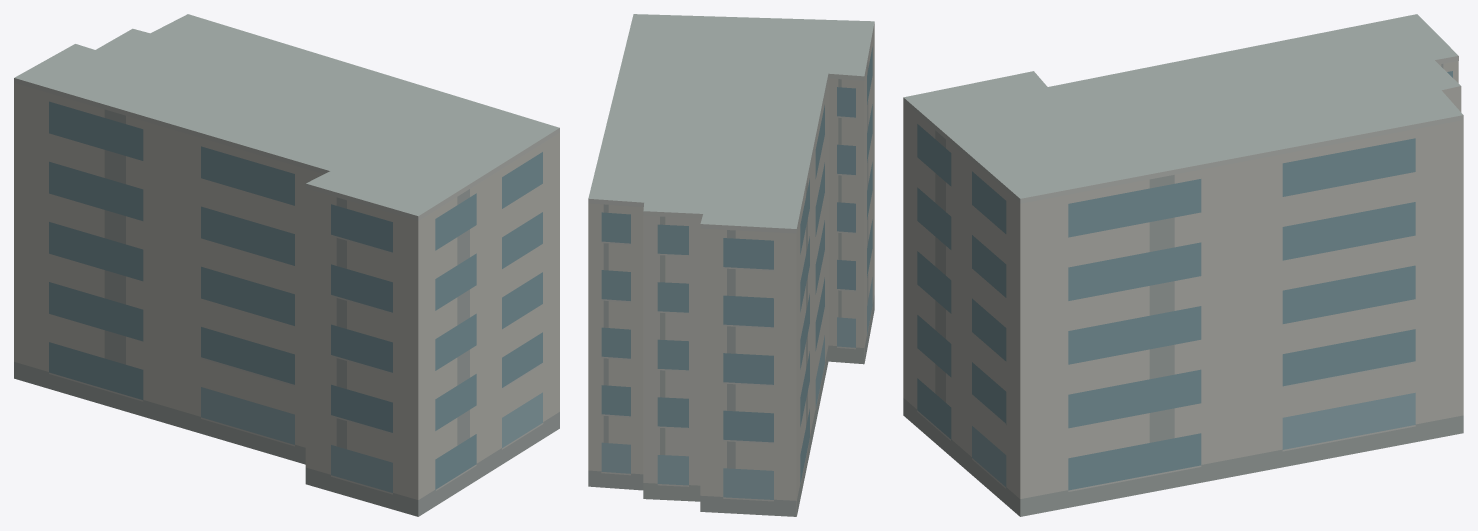
File: survey-upis-32683291.glb
3 views of the same model, side by side, from view 1: azimuth 30°, elevation 25°; view 2: azimuth 150°, elevation 25°; view 3: azimuth 270°, elevation 25° (orthographic). The views are drawn at different scales.
Parts seen in each view (by area): view 1: survey-upis-32683291.tmp; view 2: survey-upis-32683291.tmp; view 3: survey-upis-32683291.tmp.
Part boxes in pixels (x1=…): survey-upis-32683291.tmp: x1=14, y1=14, x2=559, y2=516; survey-upis-32683291.tmp: x1=588, y1=14, x2=874, y2=516; survey-upis-32683291.tmp: x1=903, y1=14, x2=1463, y2=516.
Bounding box in the file's own units: 19.02 × 15.25 × 24.35.
